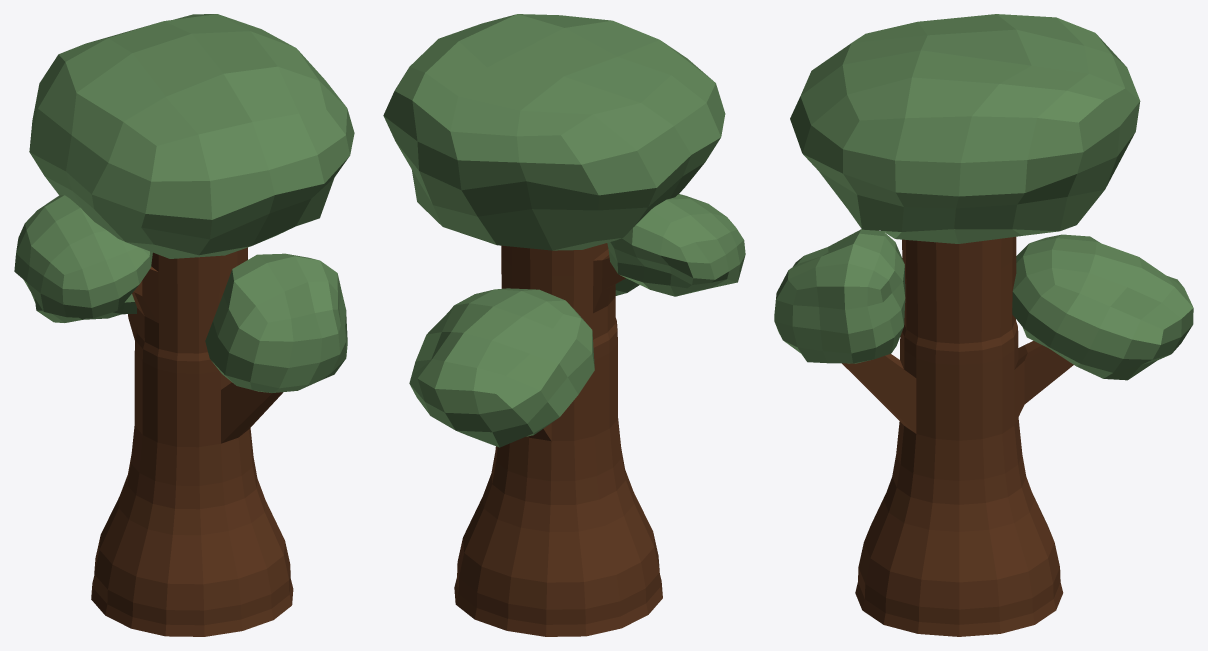
File: TREE2 1.fbx
The picture shows the model from 3 angles, left to right: view 1: azimuth 30°, elevation 25°; view 2: azimuth 150°, elevation 25°; view 3: azimuth 270°, elevation 25°; orthographic projection. The views are drawn at different scales.
Visible parts, largest first — view 1: 立方体.001; view 2: 立方体.001; view 3: 立方体.001.
Part boxes in pixels (x1,y1,x2,y2): 立方体.001: (14,14,354,636); 立方体.001: (383,14,745,636); 立方体.001: (774,14,1193,636).
Size of the model in its own units: 531 by 882 by 609.
